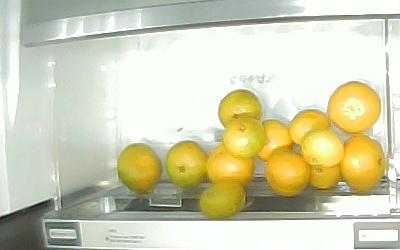tangerine: (328, 82, 381, 134), (341, 134, 385, 194), (265, 148, 311, 196), (117, 143, 162, 191), (207, 144, 255, 188), (166, 140, 207, 189), (200, 180, 246, 220), (224, 117, 265, 157), (219, 90, 262, 127), (301, 131, 345, 167), (290, 109, 331, 146), (257, 120, 293, 160), (308, 161, 343, 189)
